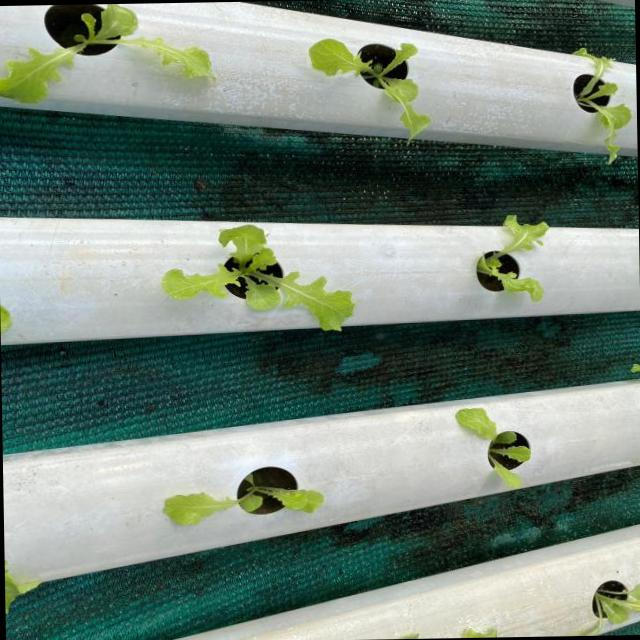Lettuce-Not-Ready-to-Harvest: (0, 1, 220, 113), (160, 226, 362, 334), (148, 460, 330, 543), (306, 34, 433, 148), (450, 401, 540, 494), (570, 42, 638, 164), (466, 214, 552, 300)
